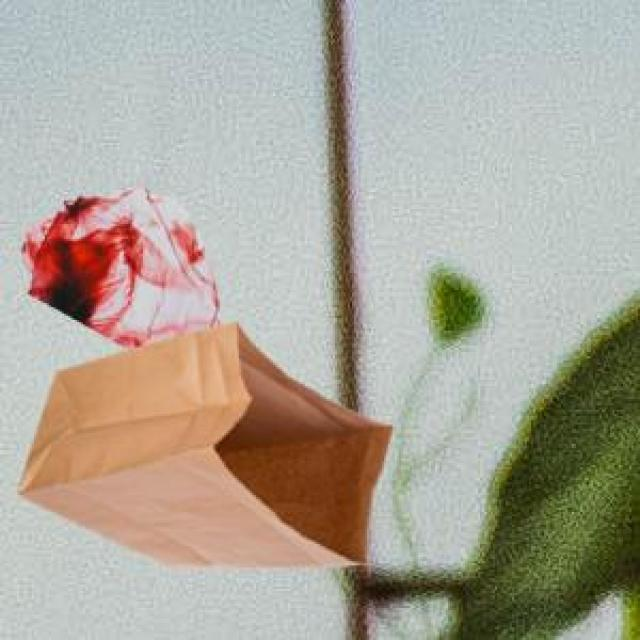paper: (15, 318, 388, 565)
